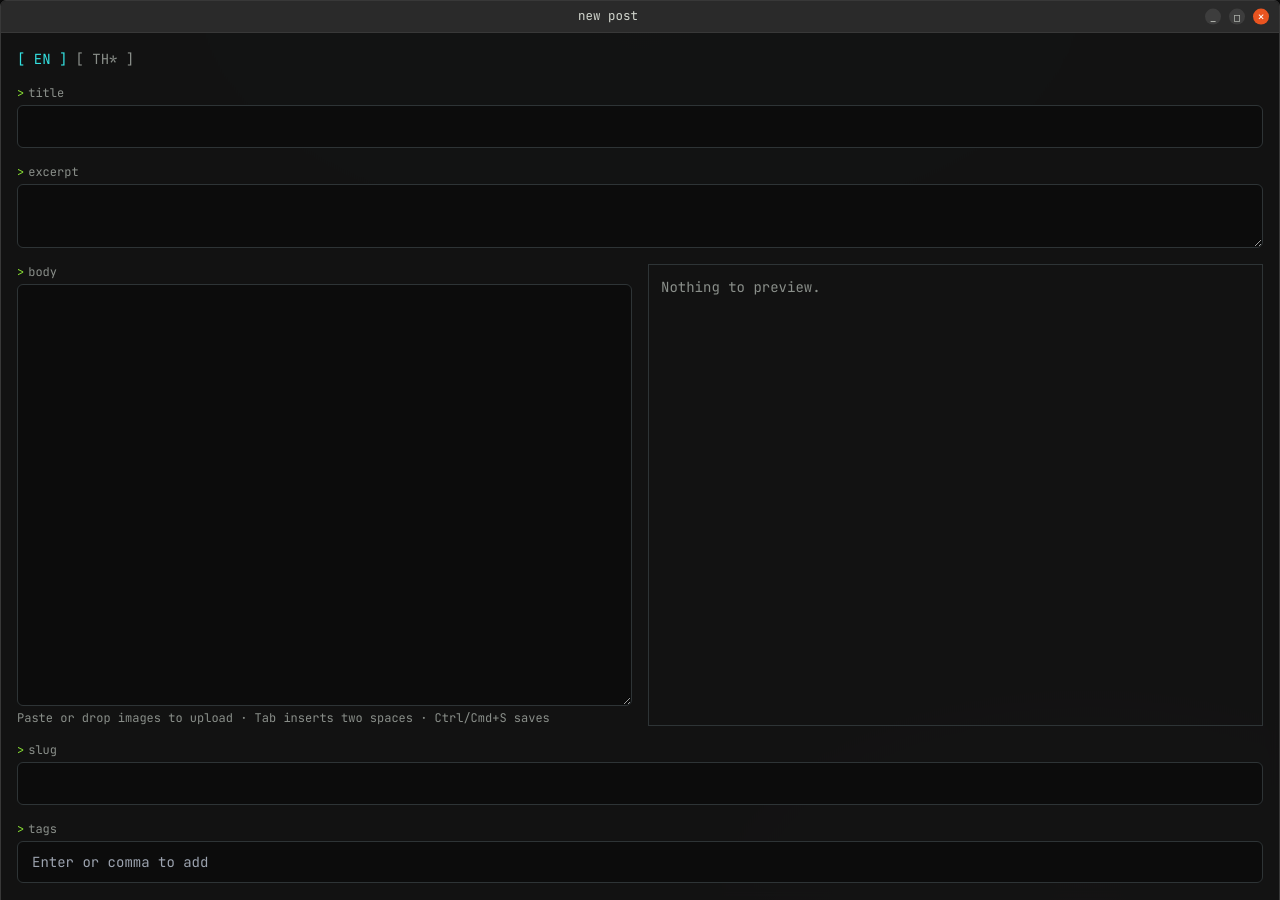
Test: preview renders the markdown live
Type "## Hello" into the text box labelled "body".
click(324, 495); type("## Hello")  # box [17,284,632,706]
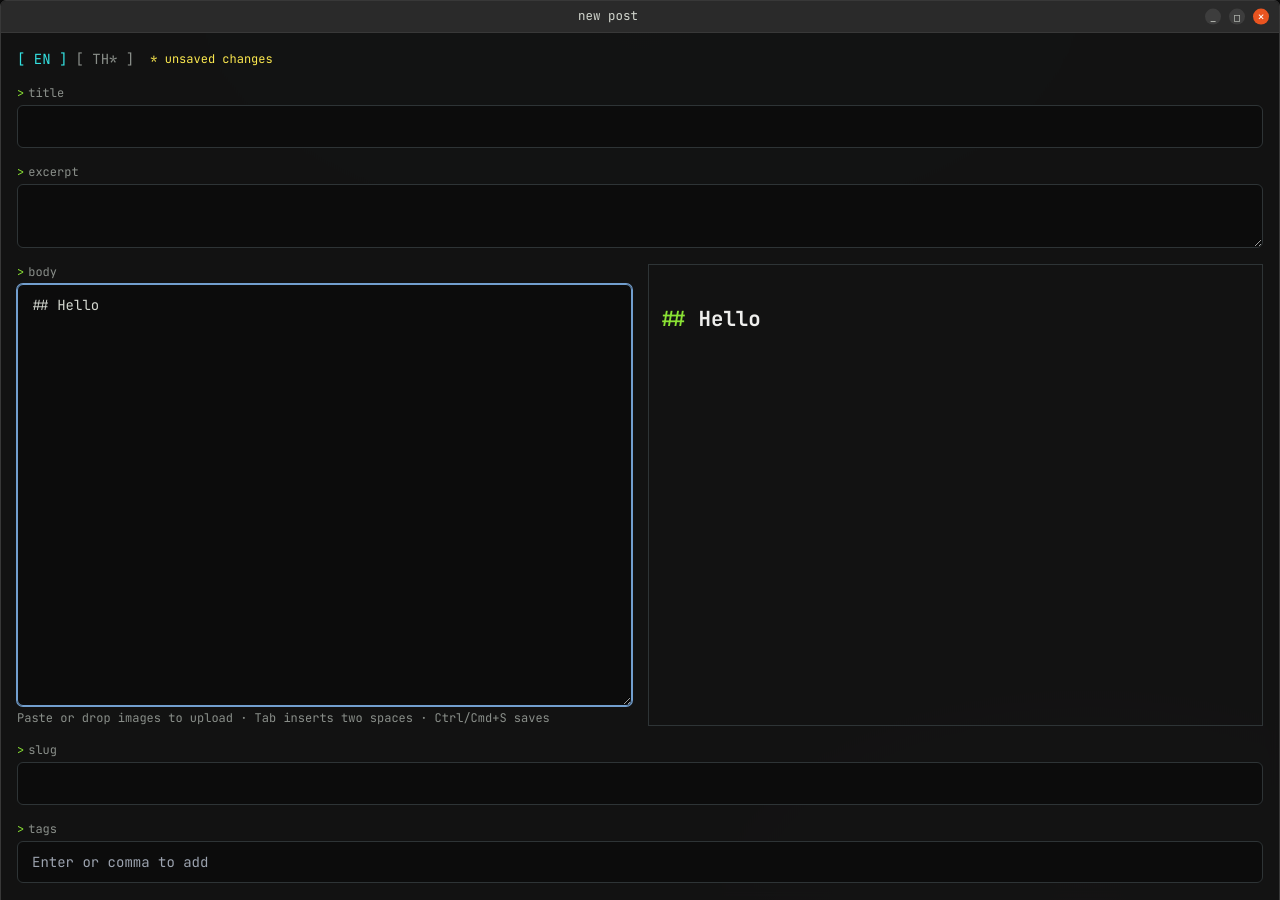
Expected: the heading "Hello" is shown, [698,305,761,332]
